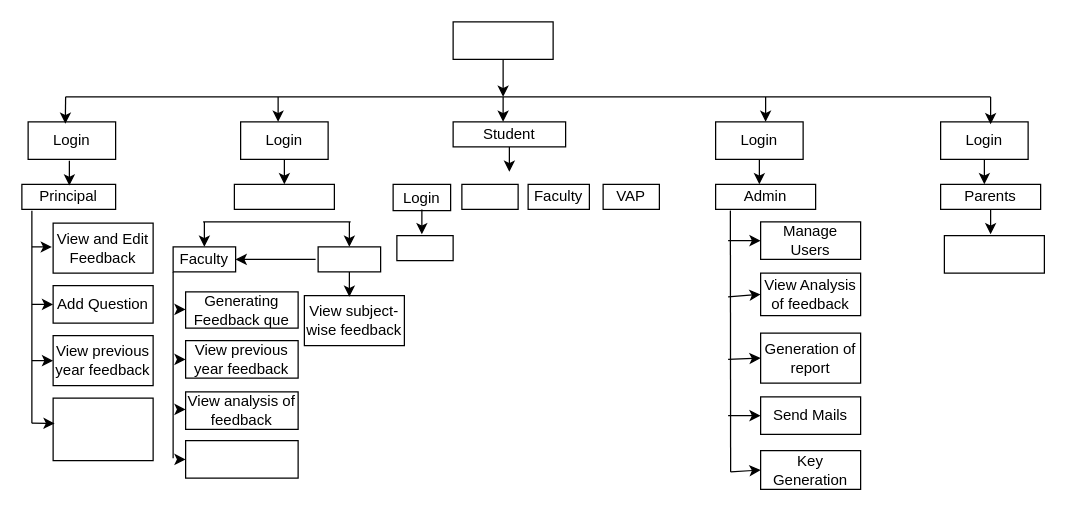
Some shapes in this 1066 by 511 pixel diagram are drawn without their labels. The shapes that lost their labels are listed below. From the top down, each one's centre as x and y in pixels, then its label:
At pixel 502 40: "Home".
At pixel 283 196: "Teacher".
At pixel 489 196: "S/W".
At pixel 349 259: "HOD".
At pixel 424 247: "CSE".
At pixel 993 253: "Give Feedback".
At pixel 102 429: "View comparative result".
At pixel 241 458: "View CES feedback".
